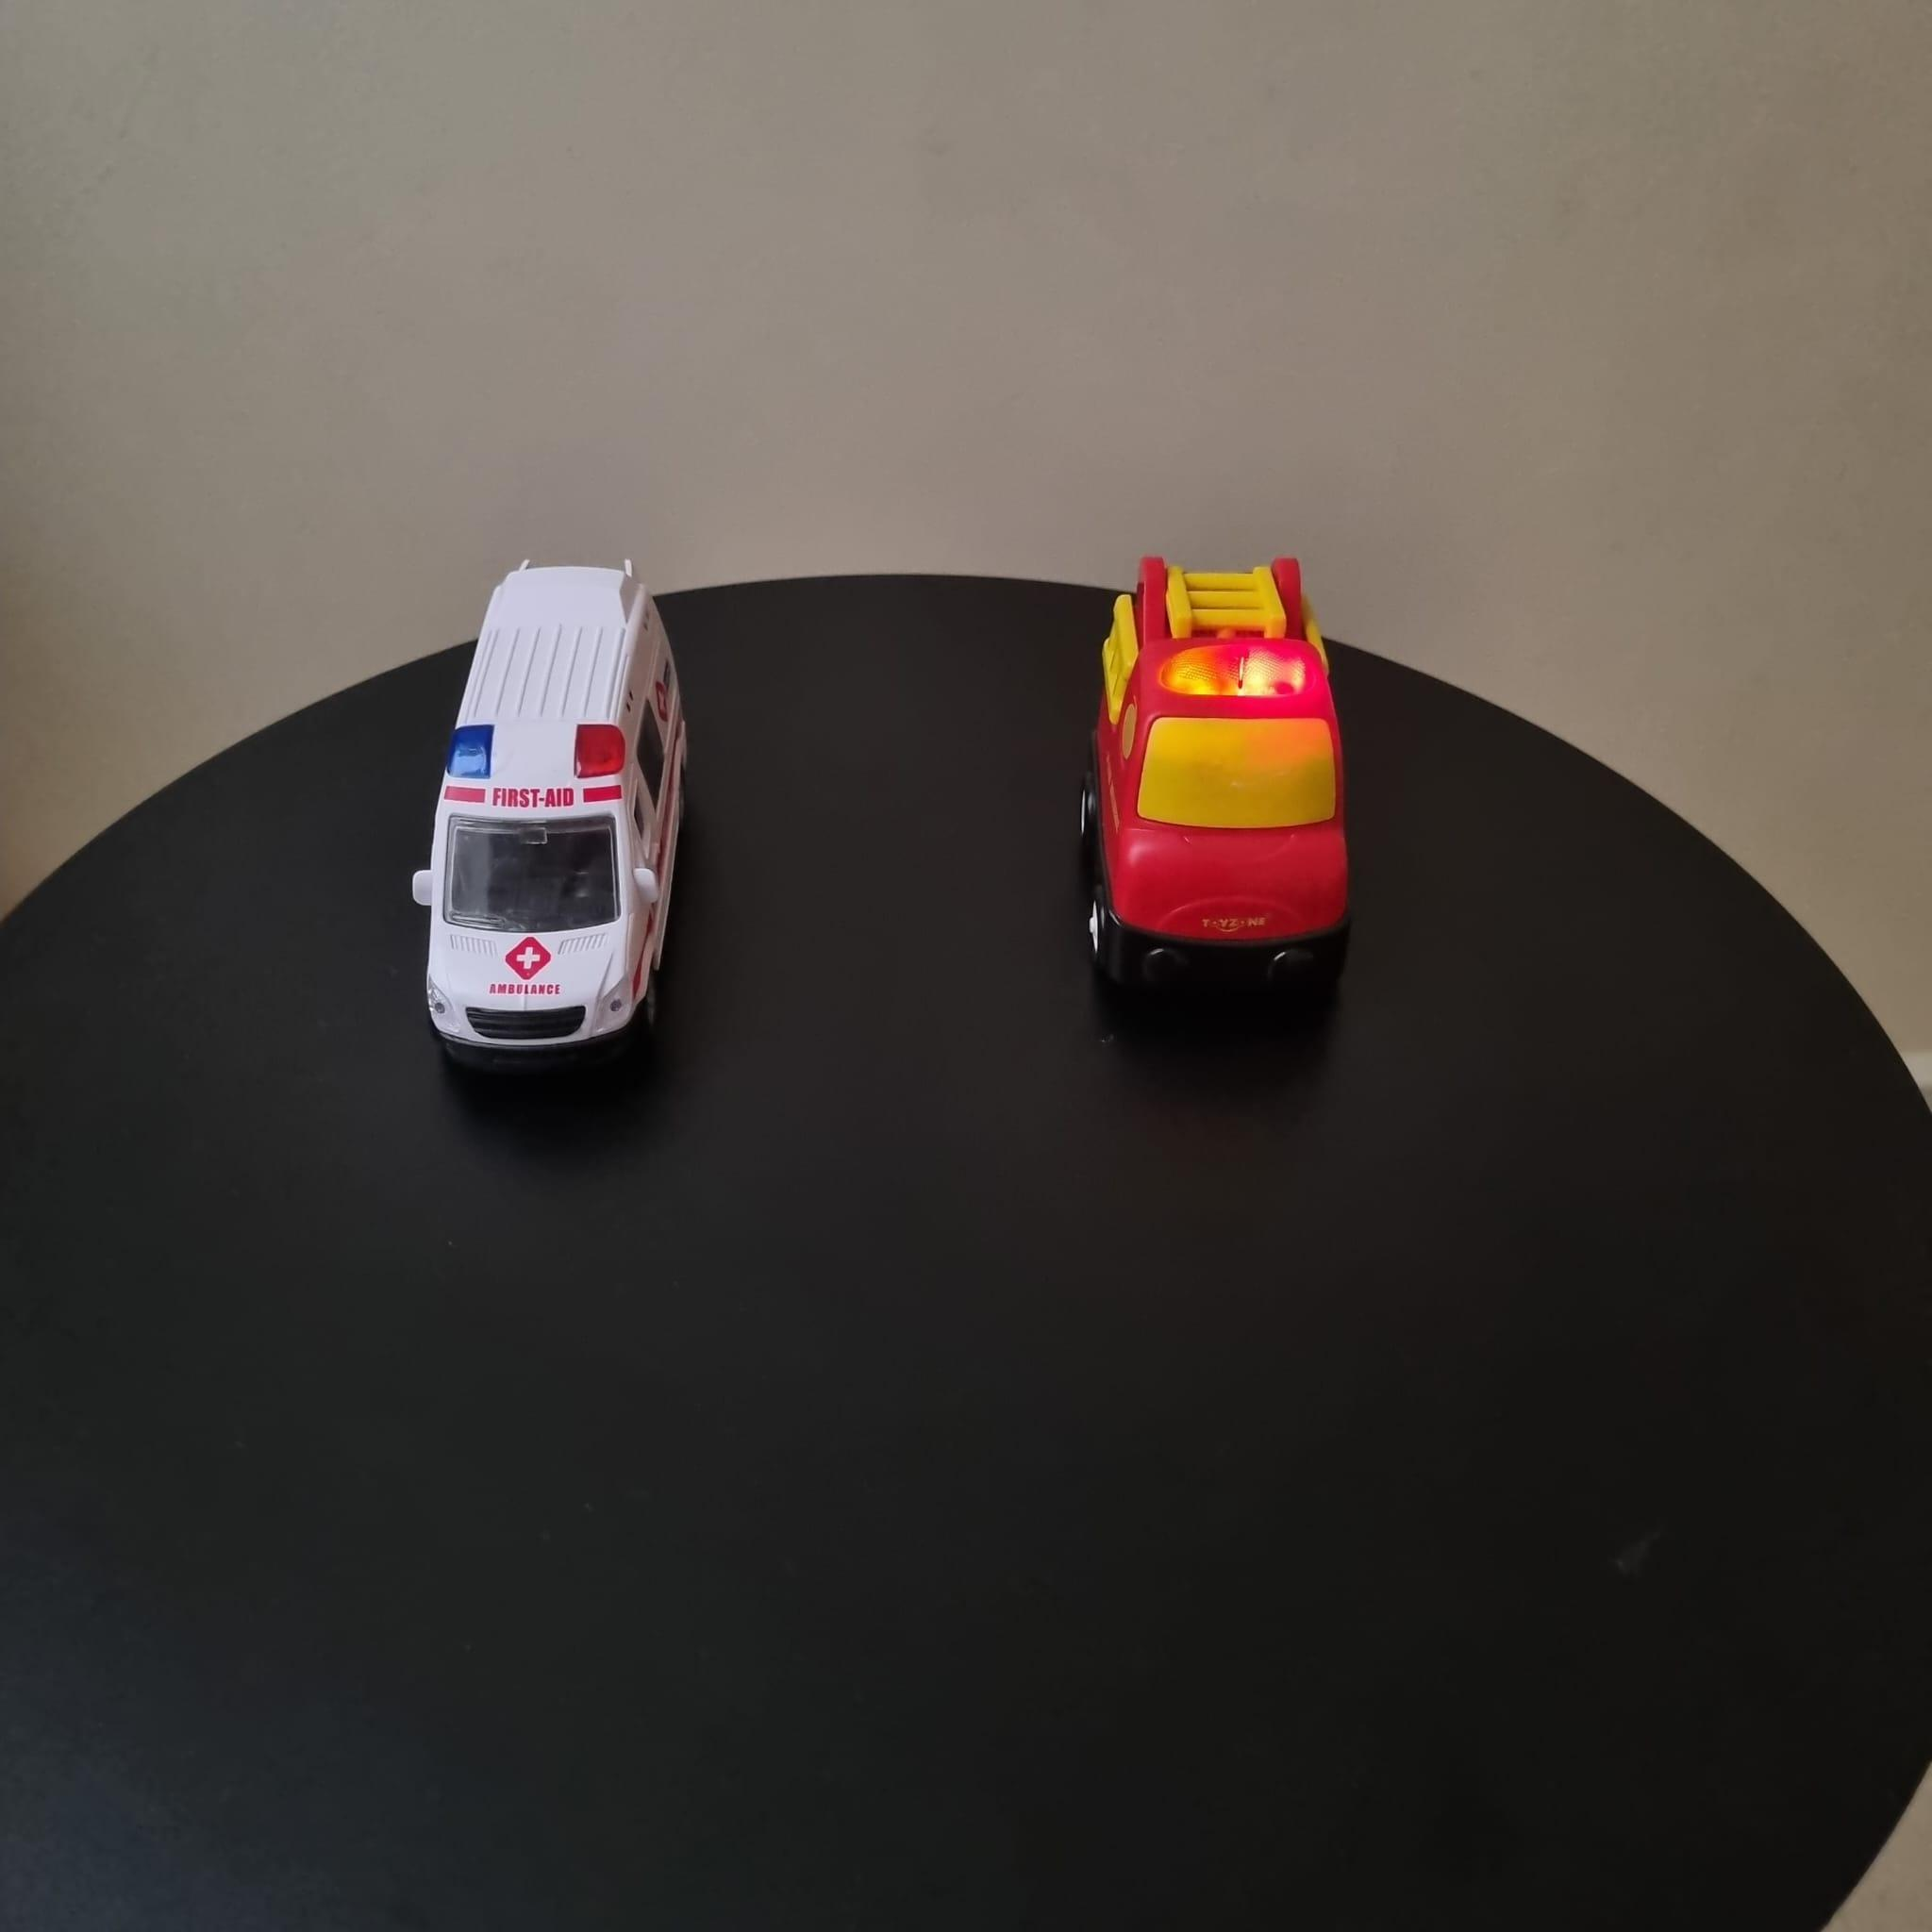ambulance_off: (407, 548, 694, 1081)
firetruck_on: (1067, 552, 1353, 1044)
